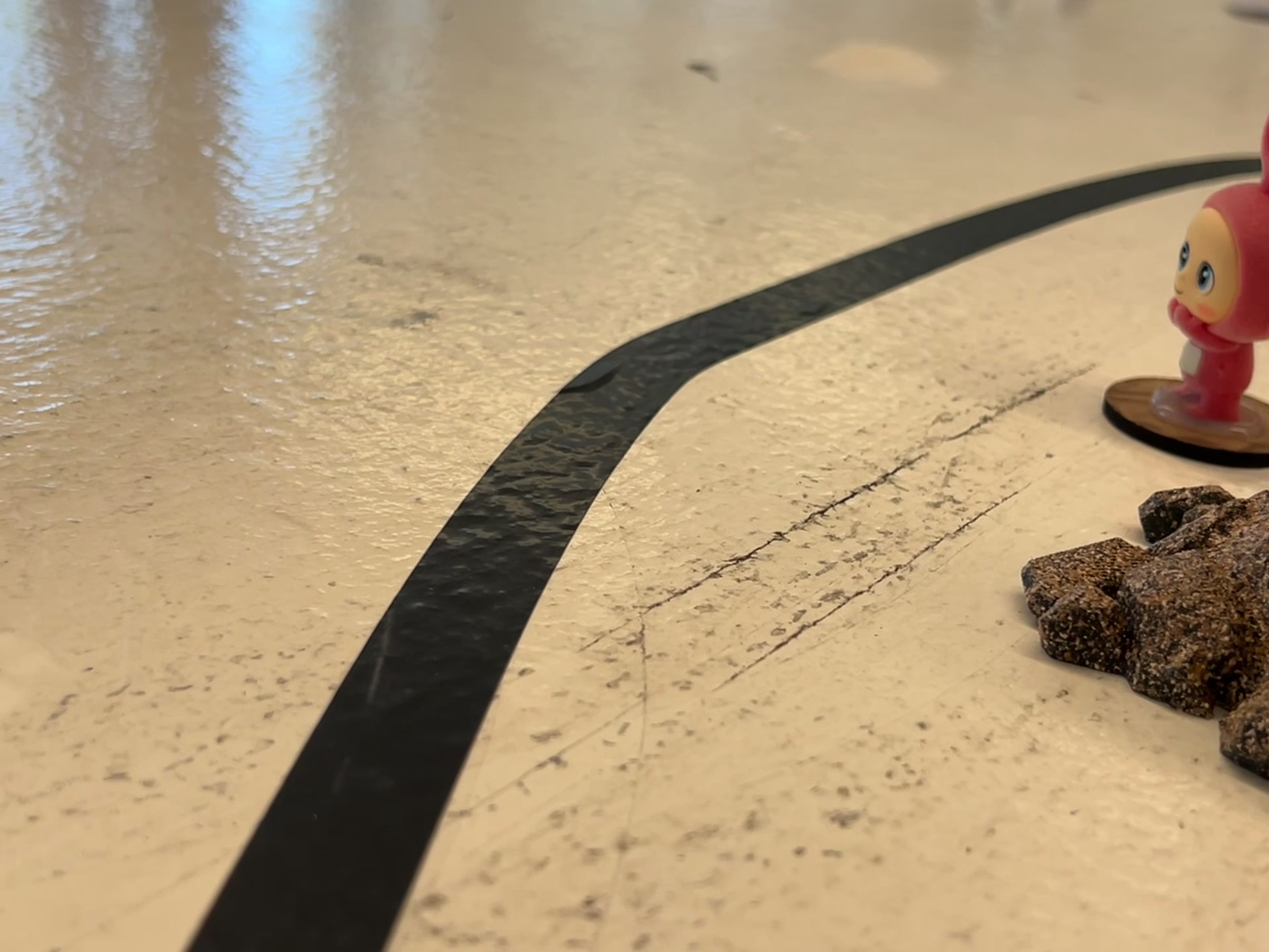teletubby: (1168, 120, 1268, 422)
